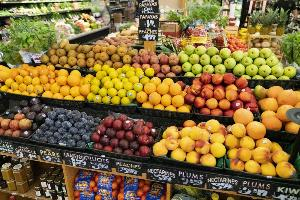apple: (178, 44, 298, 80), (42, 40, 130, 68), (131, 48, 180, 74)
lemon: (88, 64, 146, 104)
orange: (132, 69, 188, 107), (2, 58, 50, 96), (44, 66, 92, 103)
peach: (227, 124, 297, 178), (186, 68, 256, 118), (152, 114, 225, 160)
plum: (92, 112, 160, 152), (38, 106, 100, 142)
